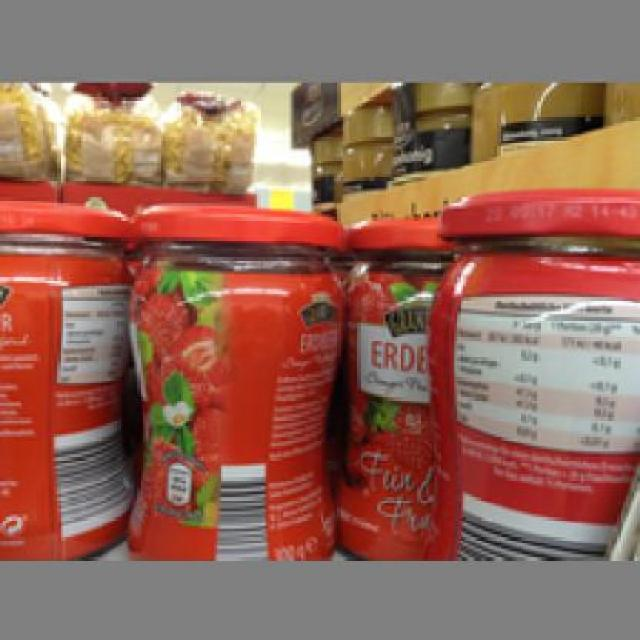Jam: (432, 189, 638, 560), (126, 202, 334, 555), (0, 196, 132, 558), (328, 214, 446, 557)
